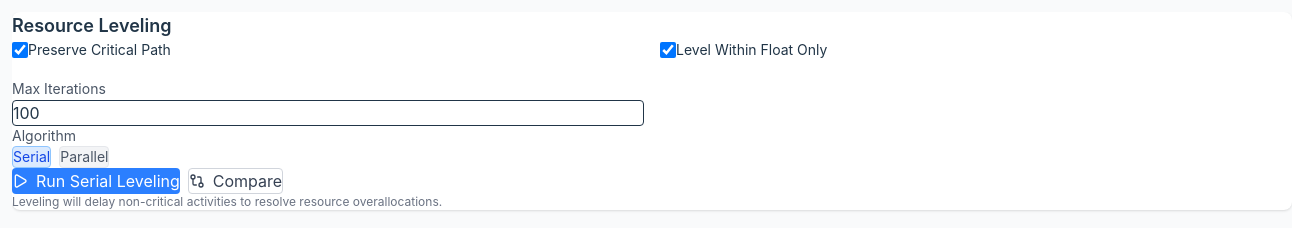
LevelingPanel › options/settings changes › switches algorithm from serial to parallel and back
expect the button "Run Serial Leveling" is shown: met, box [12,168,180,194]
Switch to parallel
What coordinates should you click on to do the following:
click the button "Parallel"
I would click on:
 (84, 157)
Its box is [59,146,110,168].
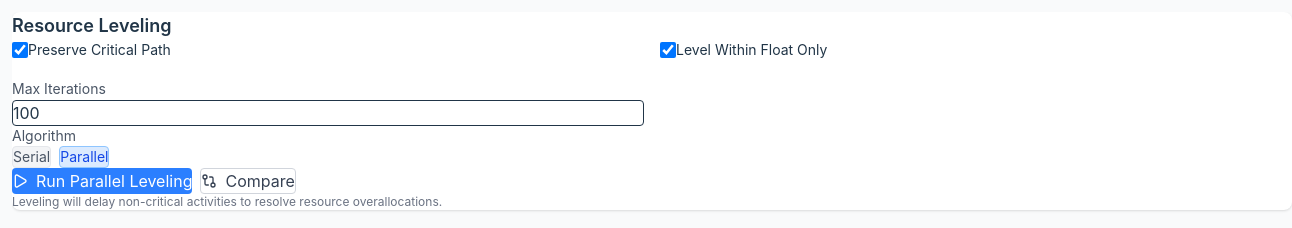
expect the button "Run Parallel Leveling" is shown: met, box [12,168,192,194]
Switch back to serial
What coordinates should you click on to do the following:
click the button "Serial"
I would click on:
 (32, 157)
Its box is [12,146,51,168].
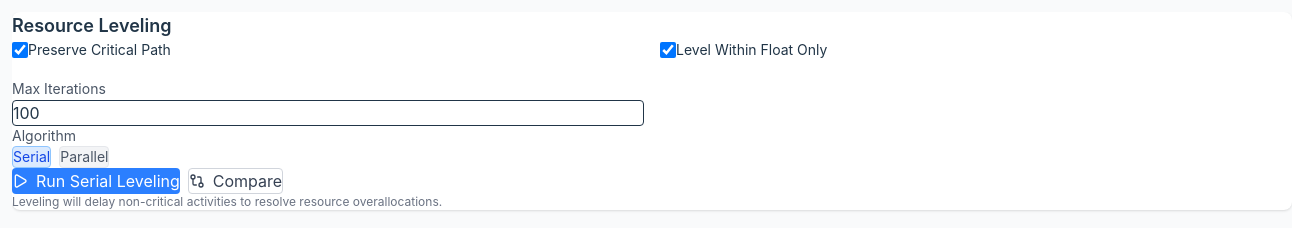
expect the button "Run Serial Leveling" is shown: met, box [12,168,180,194]
